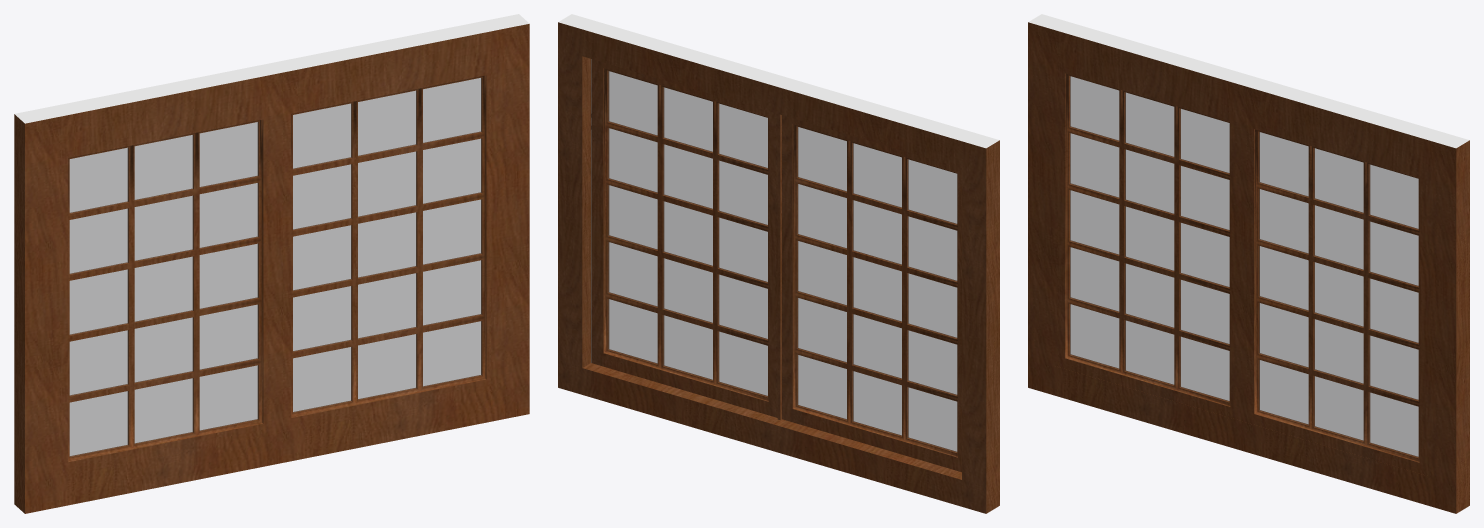
File: window 1.fbx
3 views of the same model, side by side, from view 1: azimuth 30°, elevation 25°; view 2: azimuth 150°, elevation 25°; view 3: azimuth 330°, elevation 25° (orthographic). The views are drawn at different scales.
Visible parts, largest first — view 1: Model; view 2: Model; view 3: Model.
Part boxes in pixels (left/top/right/bottom): Model: left=14, top=14, right=529, bottom=513; Model: left=558, top=14, right=999, bottom=513; Model: left=1028, top=14, right=1469, bottom=513.
Bounding box in the file's own units: 1.76 × 1.36 × 0.2304.
